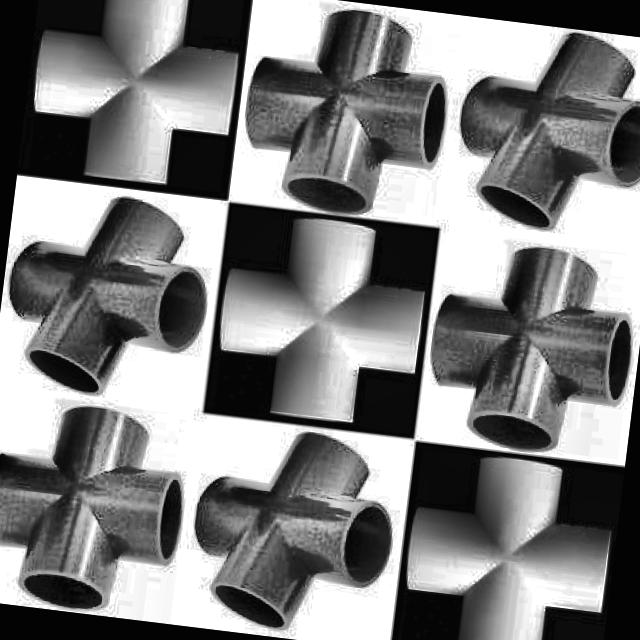EQUALCROSS: (212, 7, 444, 423), (400, 244, 630, 640), (28, 0, 239, 202), (5, 190, 206, 398), (189, 432, 390, 629), (0, 405, 183, 613), (457, 30, 640, 229)
